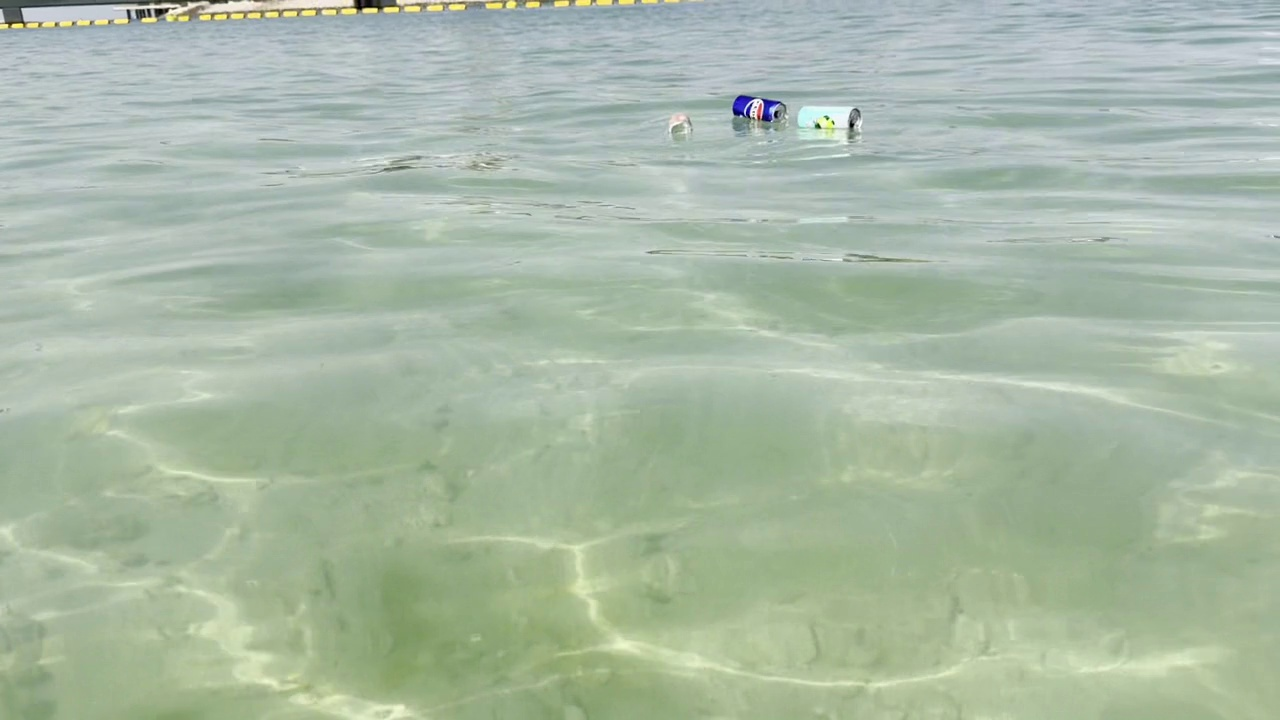debris: (790, 98, 867, 137), (725, 90, 794, 130), (666, 106, 696, 142)
